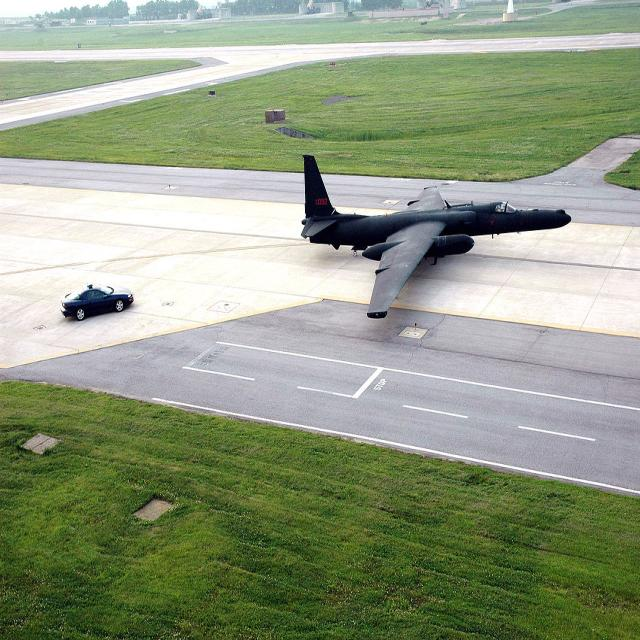MIL_Plane: (300, 153, 572, 319)
